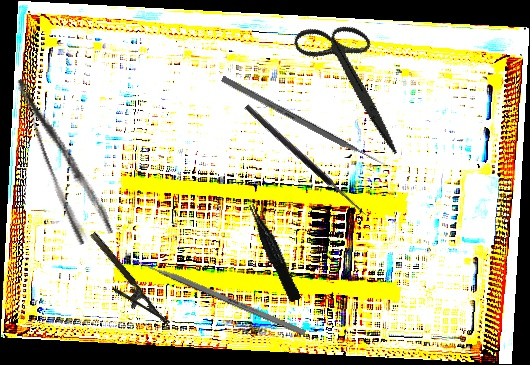Dressing Forceps: (13, 67, 115, 247)
Hook Surgical: (243, 98, 374, 217)
Iris Scissors: (267, 5, 439, 156)
Needle Holder: (77, 230, 171, 338)
Pusher: (220, 75, 393, 172), (123, 252, 307, 337)
Tissue Forceps: (246, 199, 302, 305)
